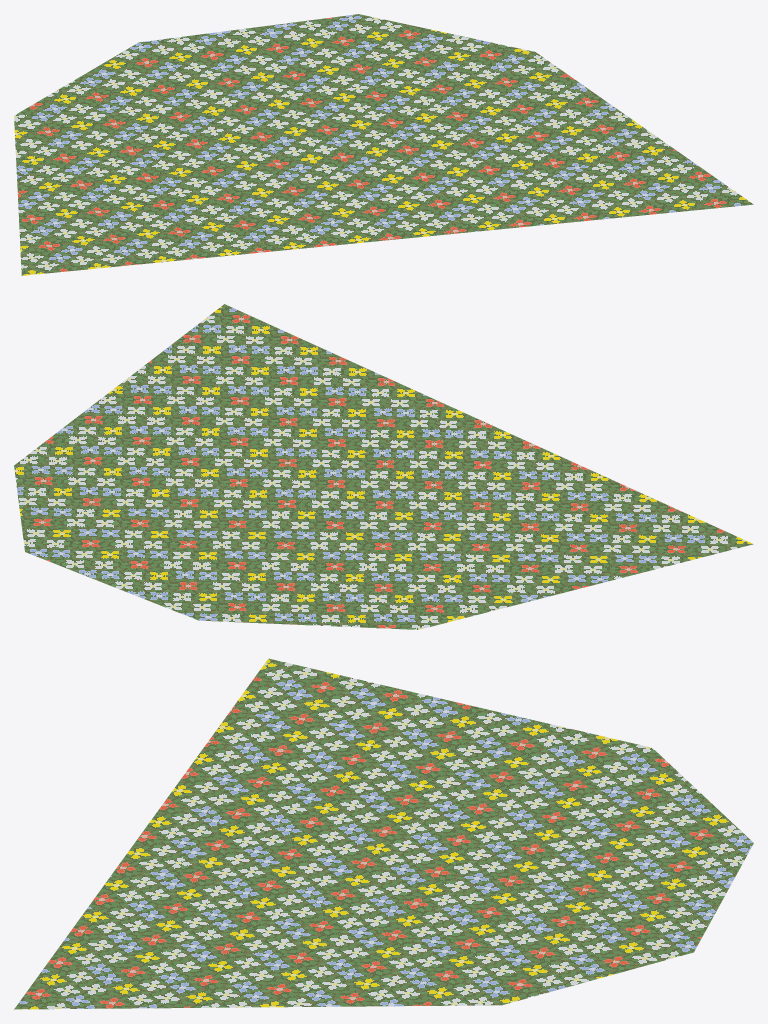
File: kd_stage_1363c5_4_11.glb
The picture shows the model from 3 angles, top to bottom: view 1: azimuth 30°, elevation 25°; view 2: azimuth 150°, elevation 25°; view 3: azimuth 270°, elevation 25°; orthographic projection. The views are drawn at different scales.
Visible parts, largest first — view 1: kd_stage_1363c5_4_11; view 2: kd_stage_1363c5_4_11; view 3: kd_stage_1363c5_4_11.
Boxes of the visible parts, x1,y1,x2,y2 form: kd_stage_1363c5_4_11: (14,14,753,275); kd_stage_1363c5_4_11: (14,304,753,629); kd_stage_1363c5_4_11: (14,658,753,1009).
Bounding box in the file's own units: 19.4 × 0 × 17.28.
1 material, 1 textured.
